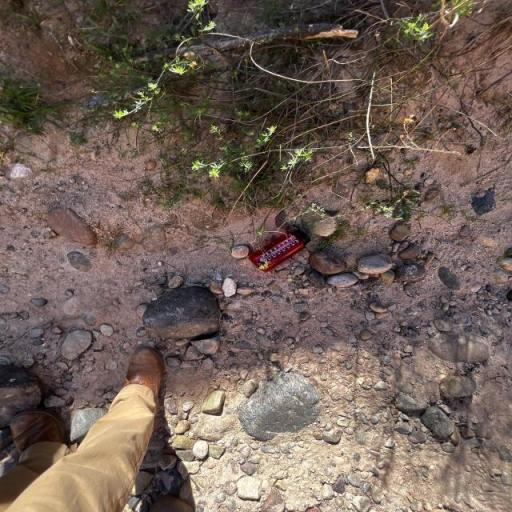bottle: (248, 224, 311, 273)
